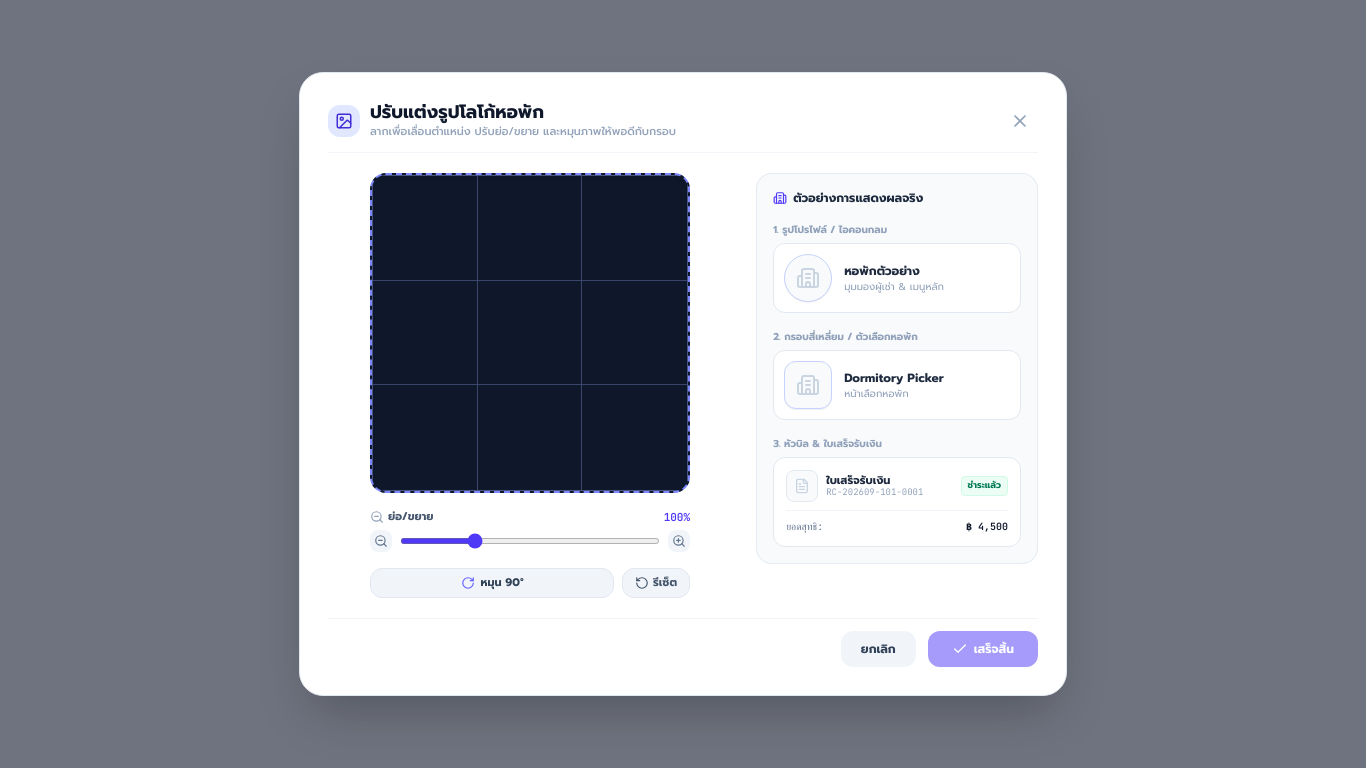
Test: Owner Round 2.4I: Verification Suite › Area 1: Logo Editor & Previews › 5. Reset restores default zoom 100%, pan 0,0, and rotation 0
Set the slider to "250" at (608, 540), box [400,538,660,544]
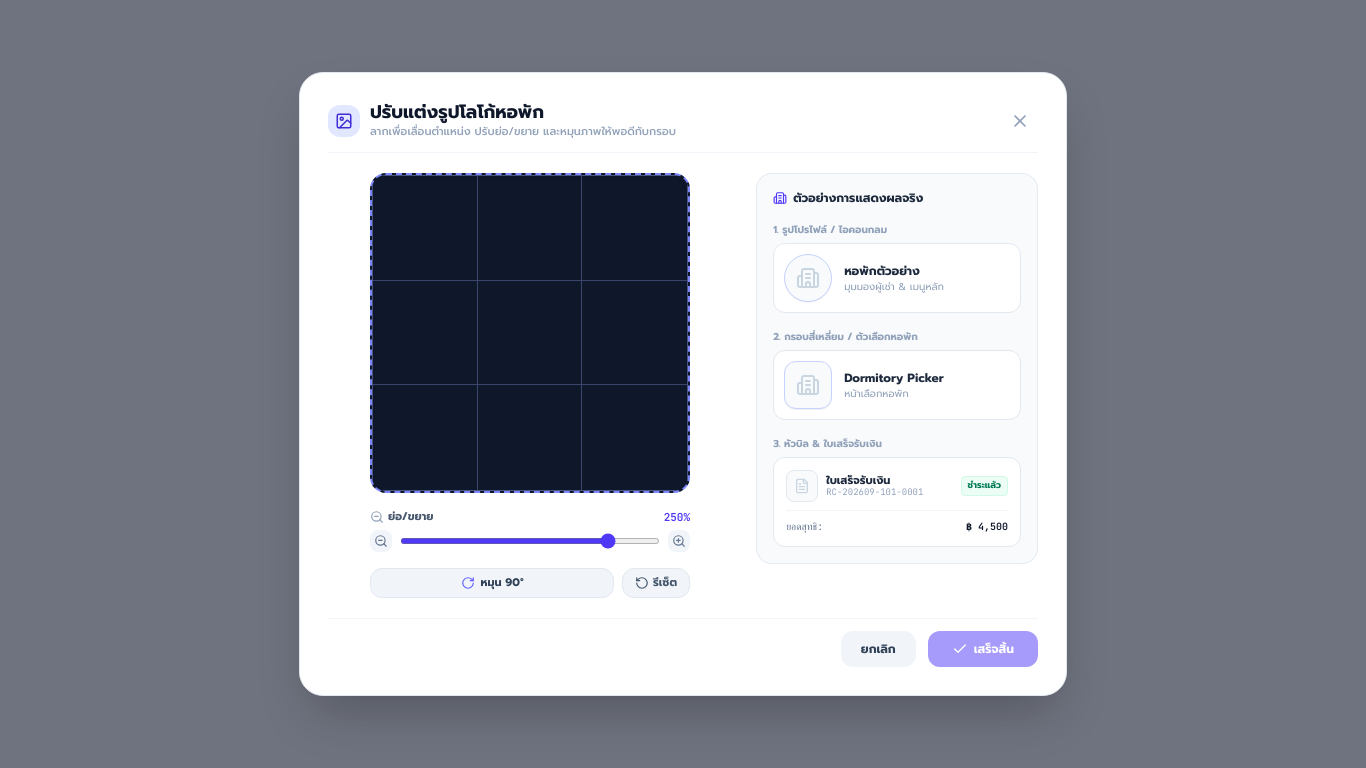
expect the text "250%" is shown: met, box [664,509,690,526]
Click the button titled "รีเซ็ตค่าเริ่มต้น" at (656, 583), box [622,568,690,598]
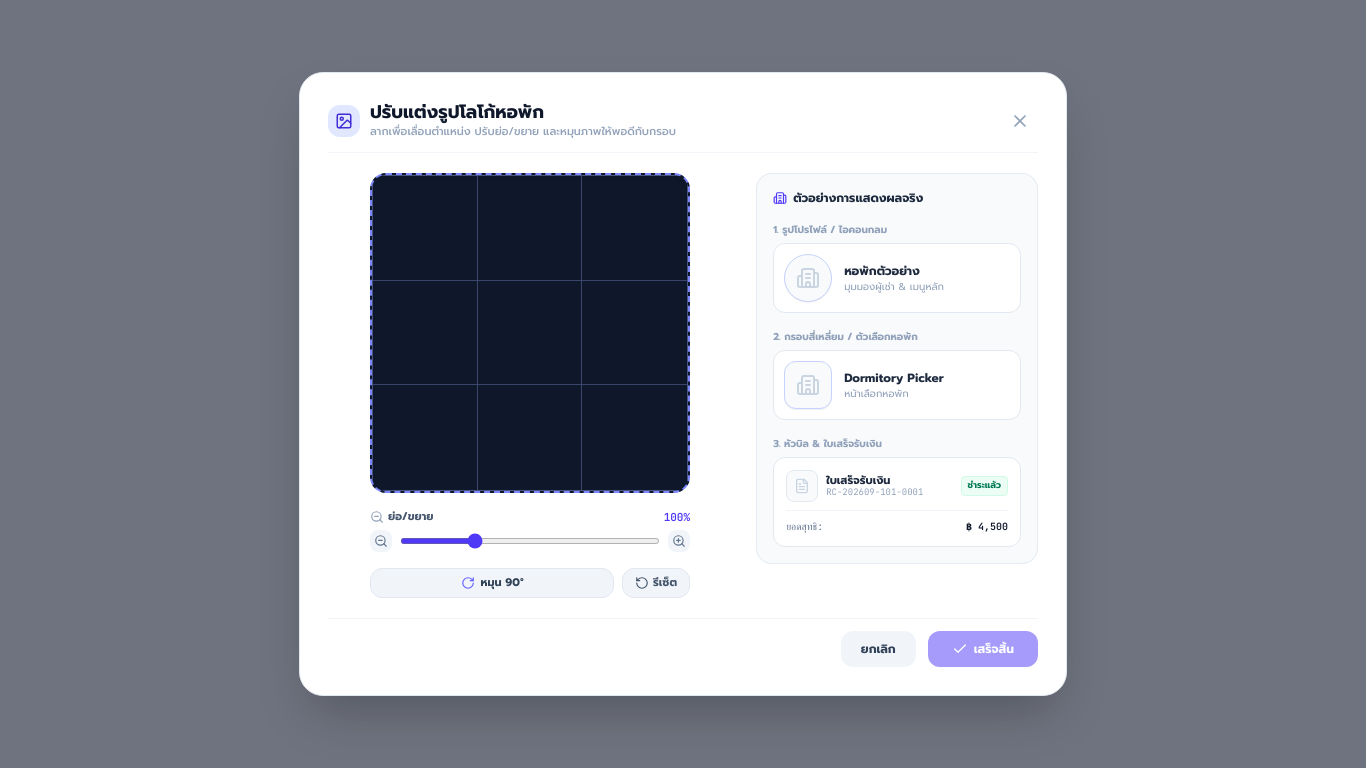
expect the text "100%" is shown: met, box [664,509,690,526]
